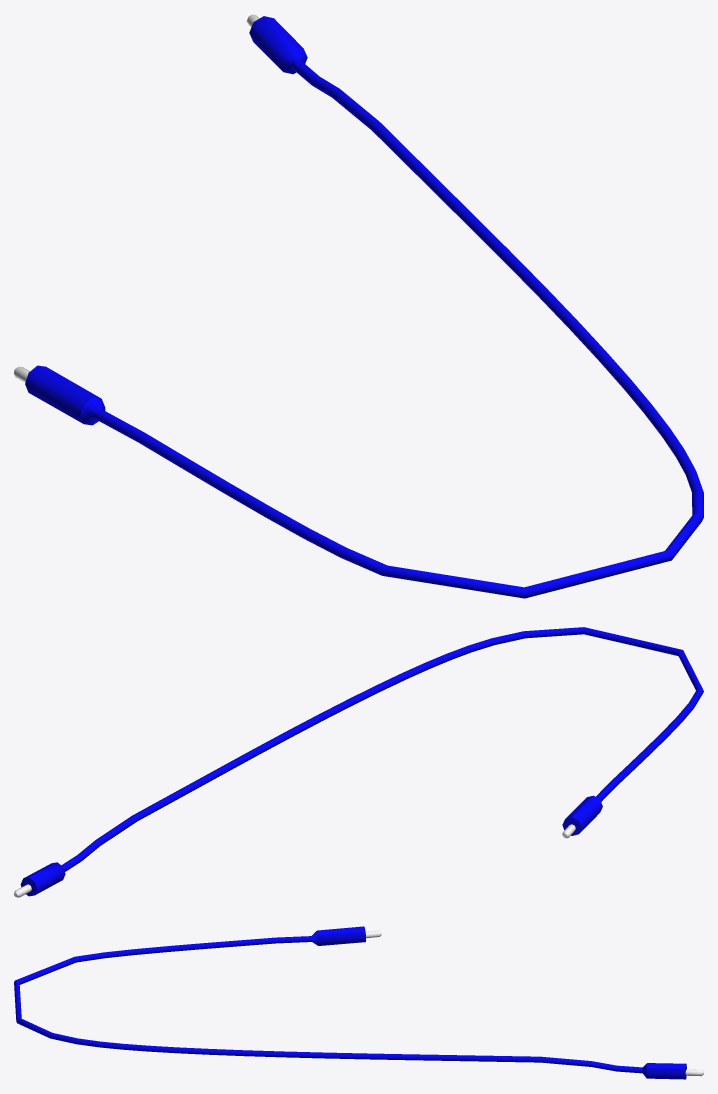
The model's file is ElectroWires03_3.FBX.
3 renders of one model, top to bottom at view 1: azimuth 30°, elevation 25°; view 2: azimuth 150°, elevation 25°; view 3: azimuth 270°, elevation 25°, orthographic. The views are drawn at different scales.
Visible parts, largest first — view 1: Wires03; view 2: Wires03; view 3: Wires03.
Part boxes in pixels (bbox=[...]): Wires03: bbox=[14, 14, 703, 598]; Wires03: bbox=[14, 627, 703, 897]; Wires03: bbox=[14, 926, 703, 1079].
Bounding box in the file's own units: 56.2 × 3.3 × 114.
